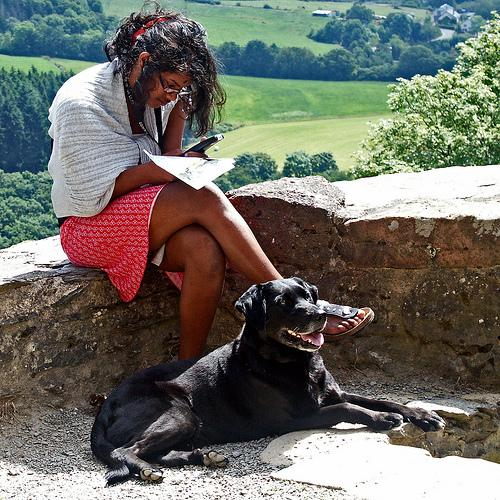person: (47, 13, 380, 359)
